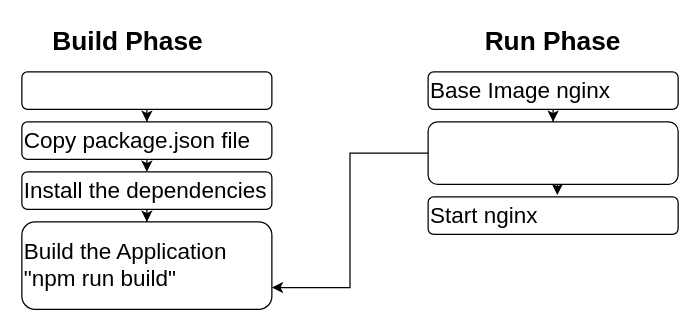
The diagram is 700 pixels wide and 331 high, and some of its shapes have lost their labels. The shapes that lost their labels are listed below. From the top down, each one's centre as x and y in pixels, then its label:
At point 146,90: "Base Image node:alpine".
At point 552,152: "Copy the output of the build phase".
